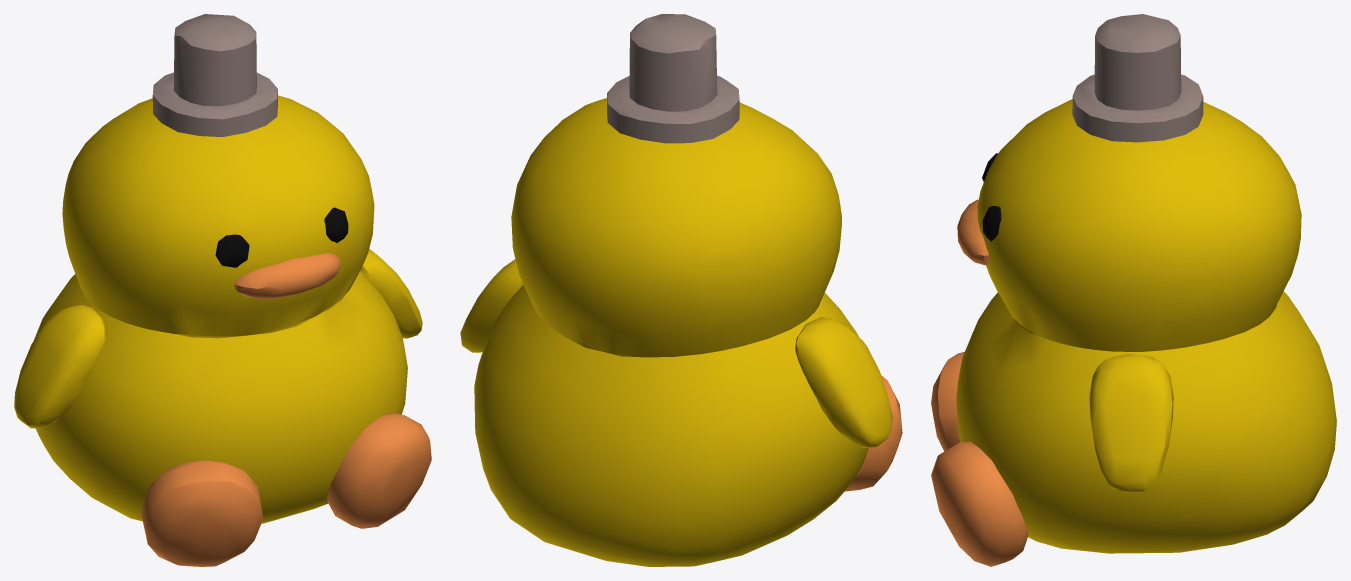
The model's file is Pato.fbx.
3 renders of one model, left to right at view 1: azimuth 30°, elevation 25°; view 2: azimuth 150°, elevation 25°; view 3: azimuth 270°, elevation 25°, orthographic. The views are drawn at different scales.
Parts seen in each view (by area): view 1: Cube.003; view 2: Cube.003; view 3: Cube.003.
Part boxes in pixels (box(x1,y1,x2,y2)): Cube.003: box(14, 14, 431, 566); Cube.003: box(460, 14, 902, 566); Cube.003: box(931, 14, 1336, 566).
Size of the model in its own units: 17.42 by 19.85 by 14.87.
